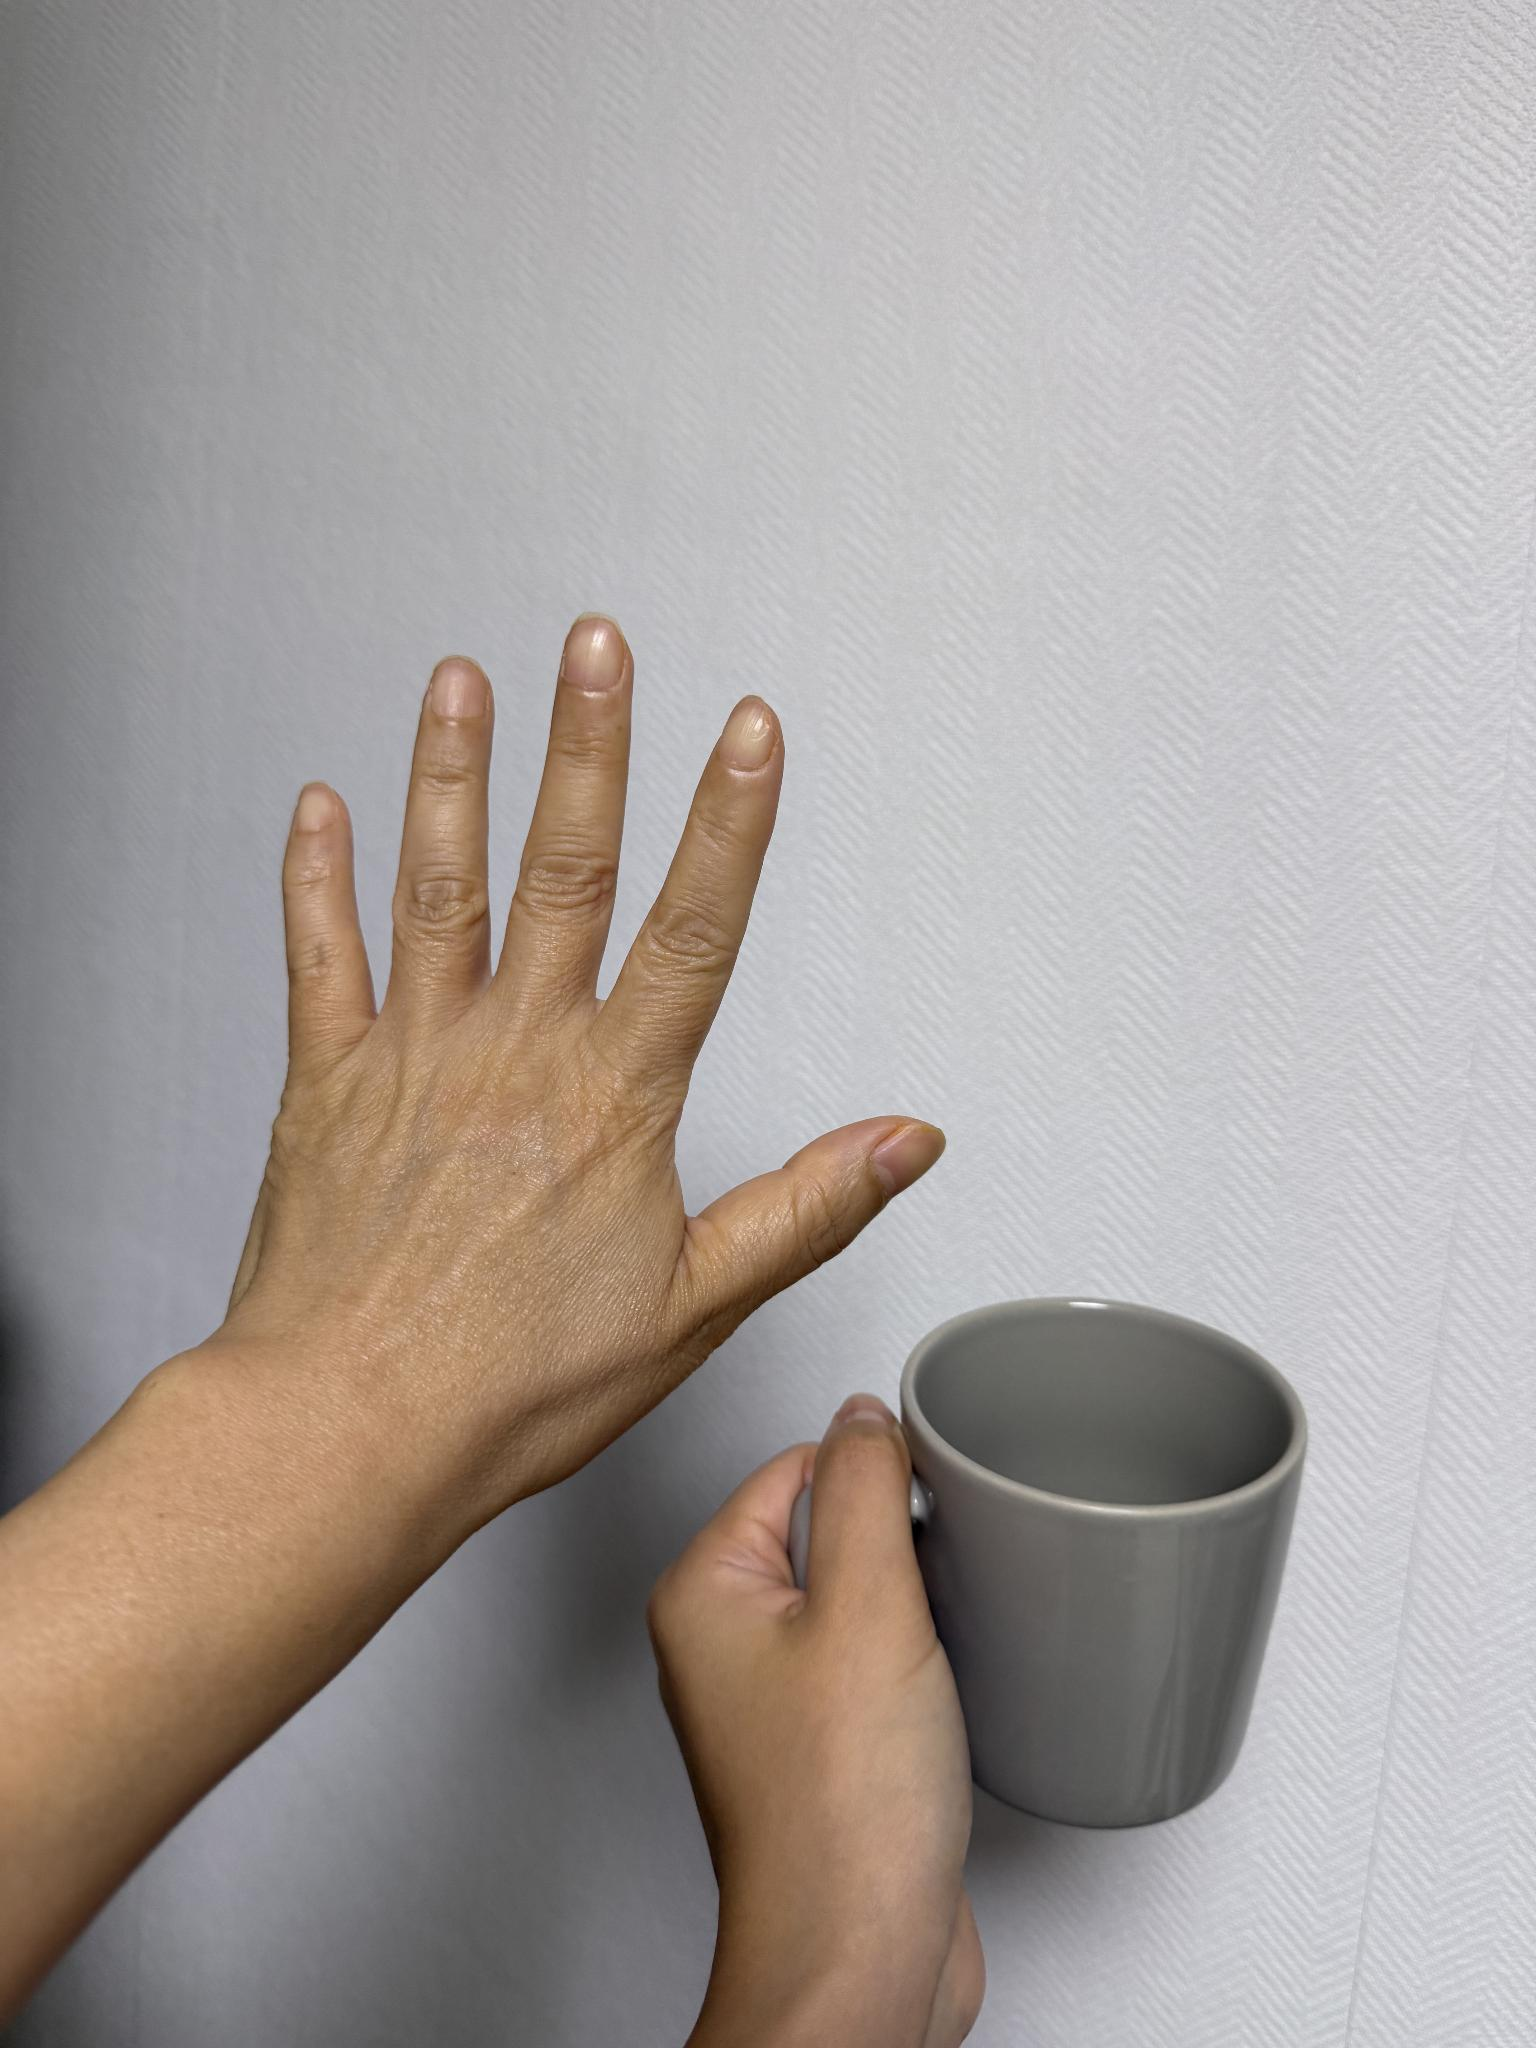cup: (620, 1277, 1329, 2048)
